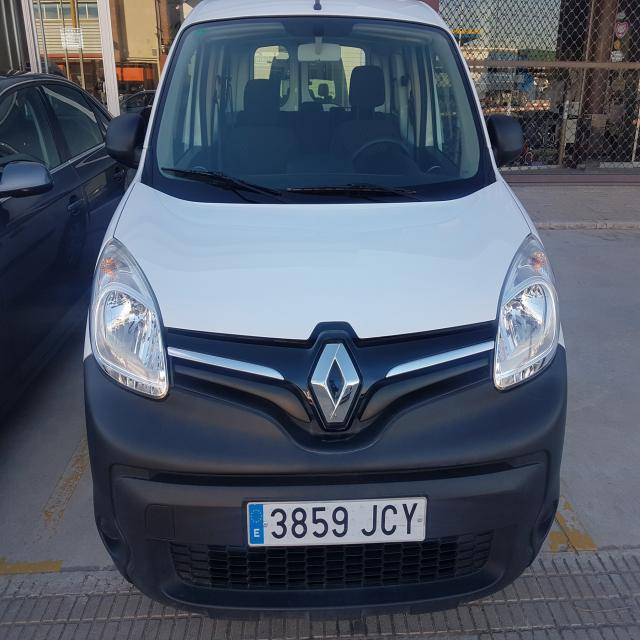football: (242, 498, 428, 549)
